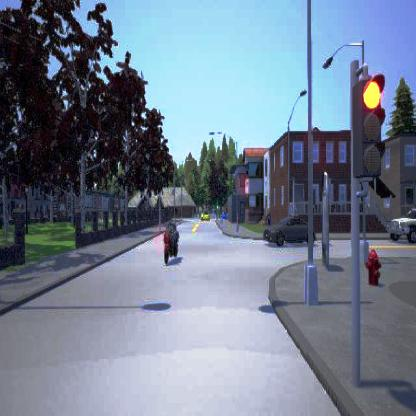motobike: (162, 217, 180, 266)
vehicle: (263, 216, 315, 249), (386, 206, 415, 243), (199, 209, 208, 221)
